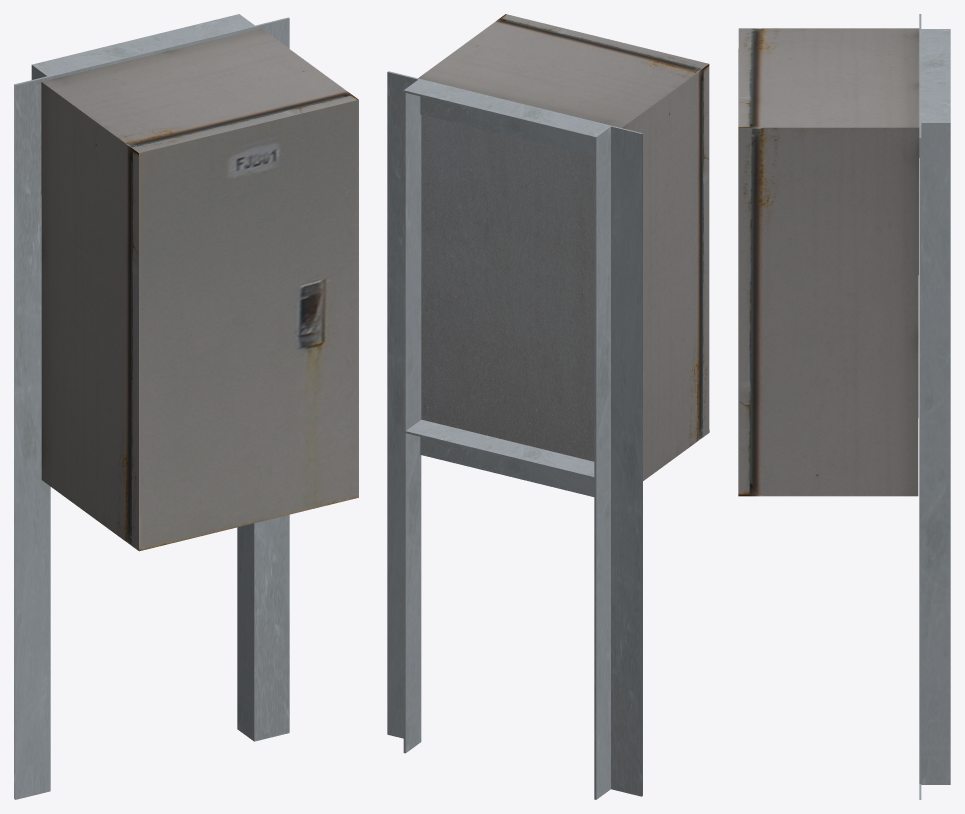
3 renders of one model, left to right at view 1: azimuth 30°, elevation 25°; view 2: azimuth 150°, elevation 25°; view 3: azimuth 270°, elevation 25°, orthographic. The views are drawn at different scales.
Parts seen in each view (by area): view 1: 518050; view 2: 518050; view 3: 518050.
Boxes of the visible parts, left/top/right/bottom form: 518050: left=14, top=14, right=358, bottom=799; 518050: left=387, top=14, right=709, bottom=799; 518050: left=738, top=14, right=950, bottom=799.
Bounding box in the file's own units: 0.3926 × 0.9771 × 0.2844.
Materials: 4 (4 with a texture image).
